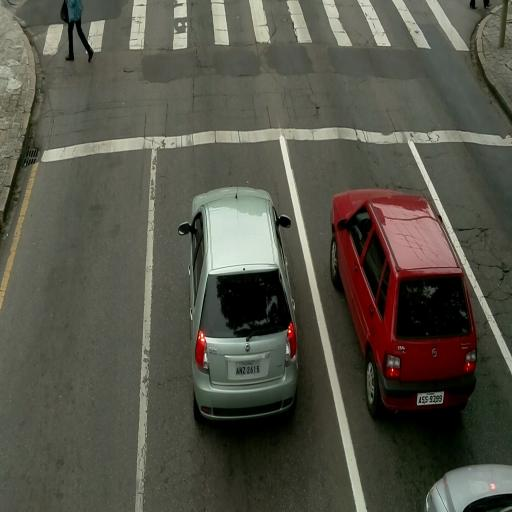car: (326, 184, 480, 429), (181, 187, 299, 422), (422, 463, 512, 511)
